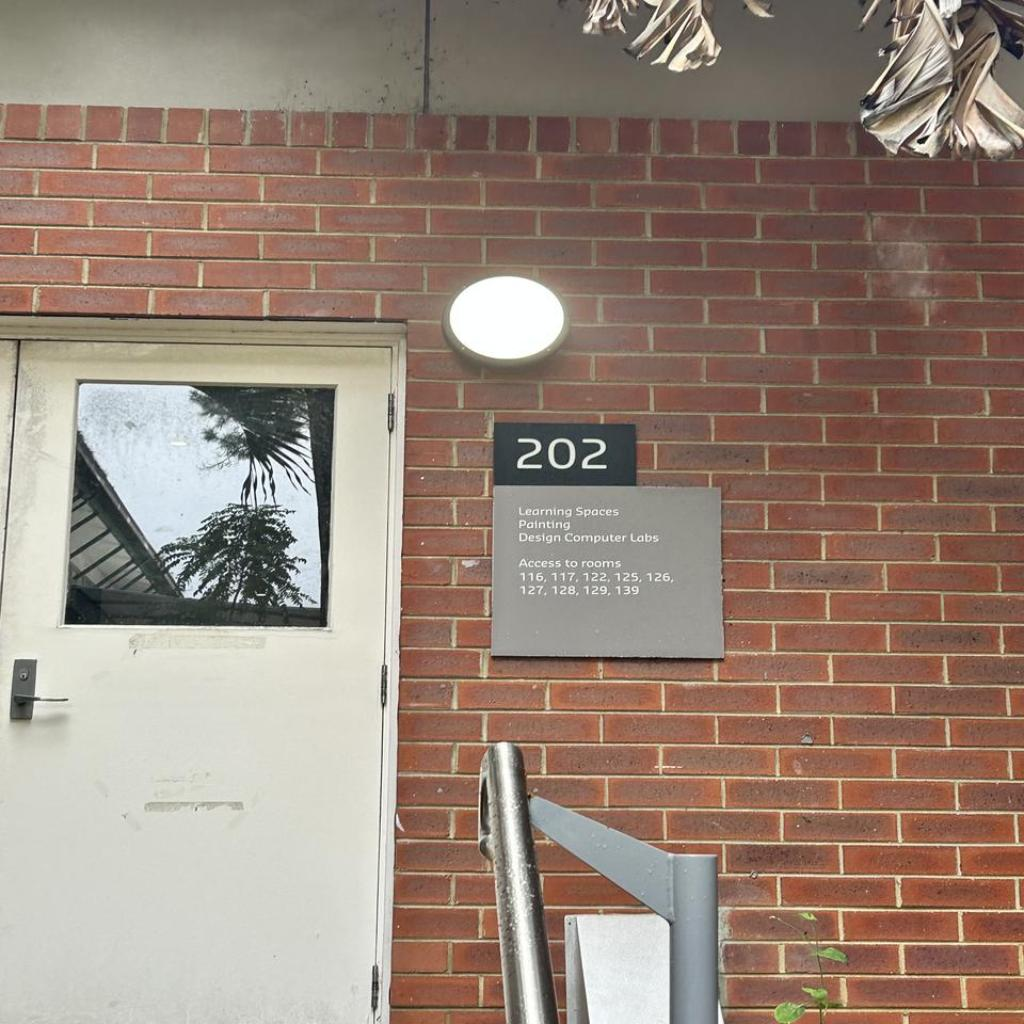BuildingCodes: (512, 430, 612, 476)
